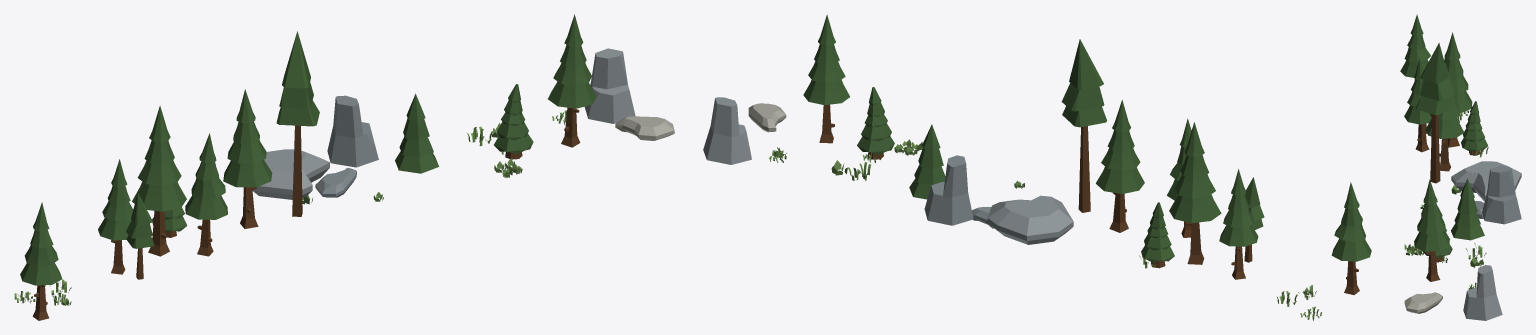
File: cell_x-3_z-3_render.gltf
3 views of the same model, side by side, from view 1: azimuth 30°, elevation 25°; view 2: azimuth 150°, elevation 25°; view 3: azimuth 270°, elevation 25° (orthographic). The views are drawn at different scales.
Parts seen in each view (by area): view 1: cell_x-3_z-3; view 2: cell_x-3_z-3; view 3: cell_x-3_z-3.
Boxes of the visible parts, <box> form: cell_x-3_z-3: <box>14,14,674,320</box>; cell_x-3_z-3: <box>703,14,1371,320</box>; cell_x-3_z-3: <box>1400,14,1521,320</box>.
Size of the model in its own units: 37.97 by 12.09 by 7.93.
